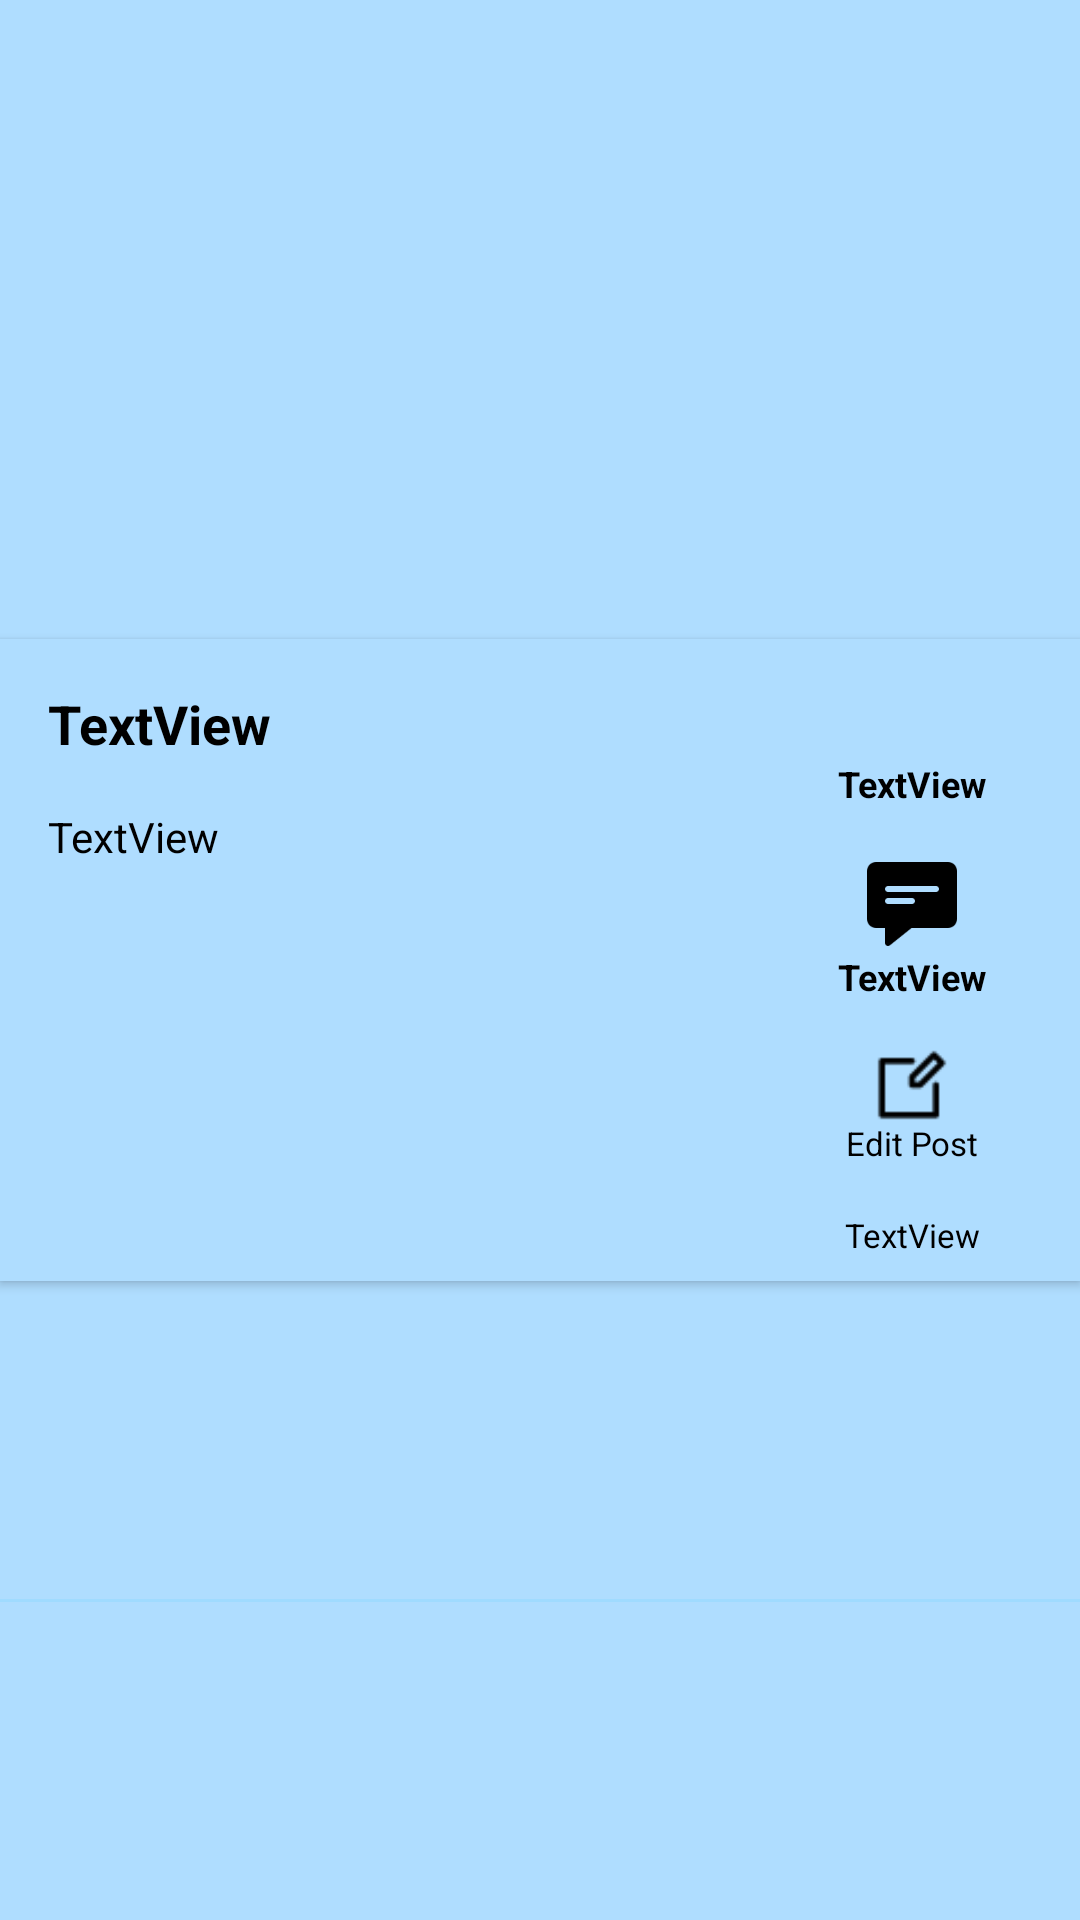

Named icons in this screenshot (1080*1920) and their bounding boxes, (x1, y1, x2, y2):
Comments Button: (867, 862, 957, 946)
